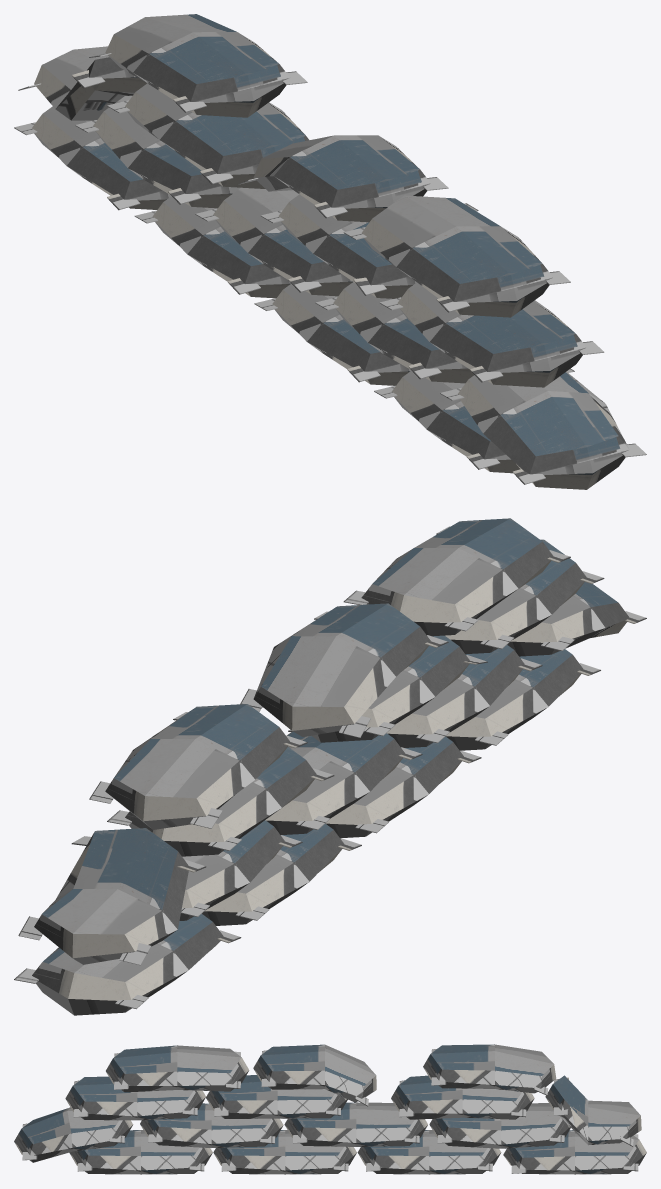
File: SandbagsWALL_1.fbx
3 views of the same model, one above another, from view 1: azimuth 30°, elevation 25°; view 2: azimuth 150°, elevation 25°; view 3: azimuth 270°, elevation 25° (orthographic). The views are drawn at different scales.
Parts seen in each view (by area): view 1: Plane.014, Plane.008, Plane.015, Plane.011, Plane.013, Plane.012, Plane.006, Plane.010, Plane.005, Plane.003, Plane.004, Plane.007 (+3 smaller); view 2: Plane.013, Plane.016, Plane.015, Plane.014, Plane.004, Plane.006, Plane.012, Plane.007, Plane.001, Plane.002, Plane.003, Plane.011 (+3 smaller); view 3: Plane.014, Plane.015, Plane.013, Plane.006, Plane.012, Plane.011, Plane.004, Plane.005, Plane.010, Plane.001, Plane.007, Plane.003 (+3 smaller).
Boxes of the visible parts, x1,y1,x2,y2 form: Plane.014: (343, 195, 570, 317); Plane.008: (440, 368, 646, 489); Plane.015: (89, 14, 307, 117); Plane.011: (379, 282, 604, 387); Plane.013: (238, 135, 448, 222); Plane.012: (107, 83, 309, 188); Plane.006: (195, 187, 352, 296); Plane.010: (260, 194, 416, 298); Plane.005: (75, 95, 240, 208); Plane.003: (134, 196, 290, 298); Plane.004: (14, 106, 171, 210); Plane.007: (315, 282, 473, 383); Plane.013: (240, 603, 448, 737); Plane.016: (18, 828, 206, 965); Plane.015: (89, 704, 307, 829); Plane.014: (343, 518, 570, 636); Plane.004: (14, 914, 241, 1015); Plane.006: (265, 729, 422, 834); Plane.012: (107, 747, 334, 856); Plane.007: (387, 645, 542, 747); Plane.001: (445, 649, 600, 750); Plane.002: (325, 736, 481, 838); Plane.003: (202, 823, 361, 925); Plane.011: (445, 539, 604, 654); Plane.014: (106, 1045, 249, 1092); Plane.015: (423, 1044, 556, 1095); Plane.013: (253, 1044, 376, 1106); Plane.006: (284, 1102, 427, 1146); Plane.012: (391, 1075, 534, 1119); Plane.011: (65, 1076, 205, 1120); Plane.004: (503, 1130, 646, 1174); Plane.005: (429, 1103, 570, 1148); Plane.010: (206, 1075, 347, 1118); Plane.001: (69, 1130, 212, 1174); Plane.007: (140, 1103, 283, 1147); Plane.003: (357, 1130, 501, 1174).
Bounding box in the file's own units: 56.62 × 85.3 × 419.
